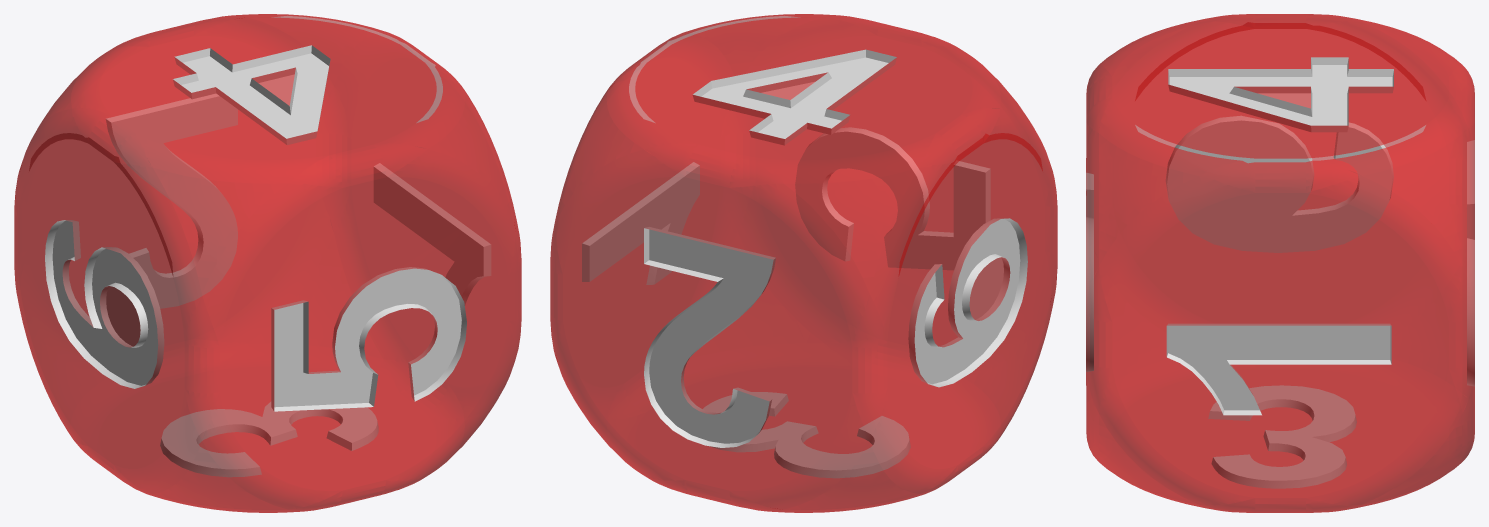
File: d6_numbers_rounded.fbx
3 views of the same model, side by side, from view 1: azimuth 30°, elevation 25°; view 2: azimuth 150°, elevation 25°; view 3: azimuth 270°, elevation 25° (orthographic).
Visible parts, largest first — view 1: export.001; view 2: export.001; view 3: export.001.
Boxes of the visible parts, <box> form: export.001: <box>14,14,521,512</box>; export.001: <box>550,14,1057,512</box>; export.001: <box>1086,14,1474,512</box>.
Bounding box in the file's own units: 0.0417 × 0.0417 × 0.0417.
